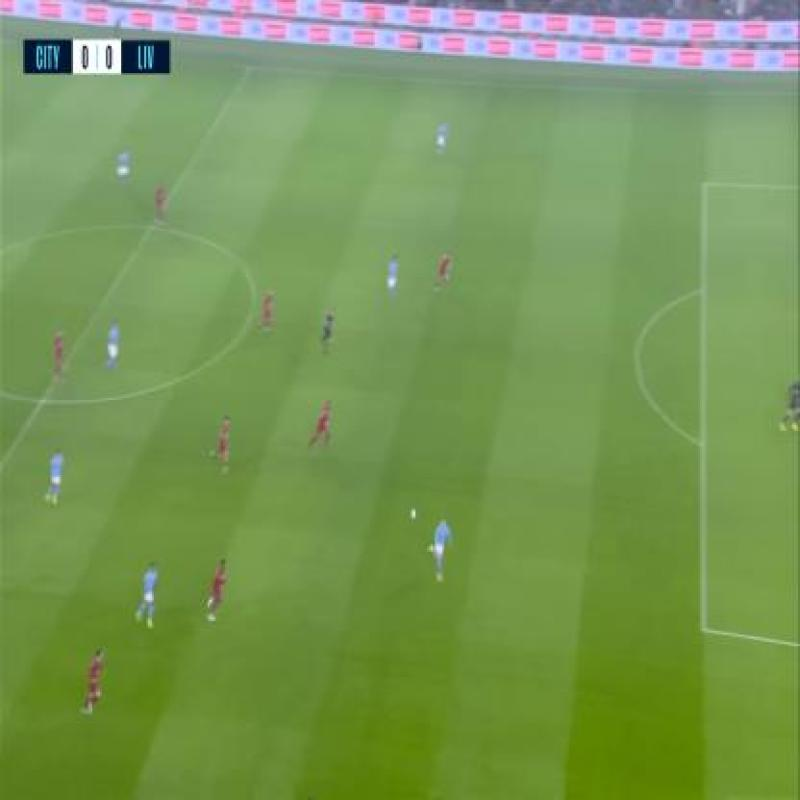10: (694, 279, 712, 300)
11: (690, 427, 714, 460)
12: (694, 611, 716, 642)
13: (239, 58, 256, 79)
14: (144, 215, 160, 236)
15: (36, 388, 52, 412)
9: (698, 175, 716, 202)
c: (236, 300, 266, 342)
